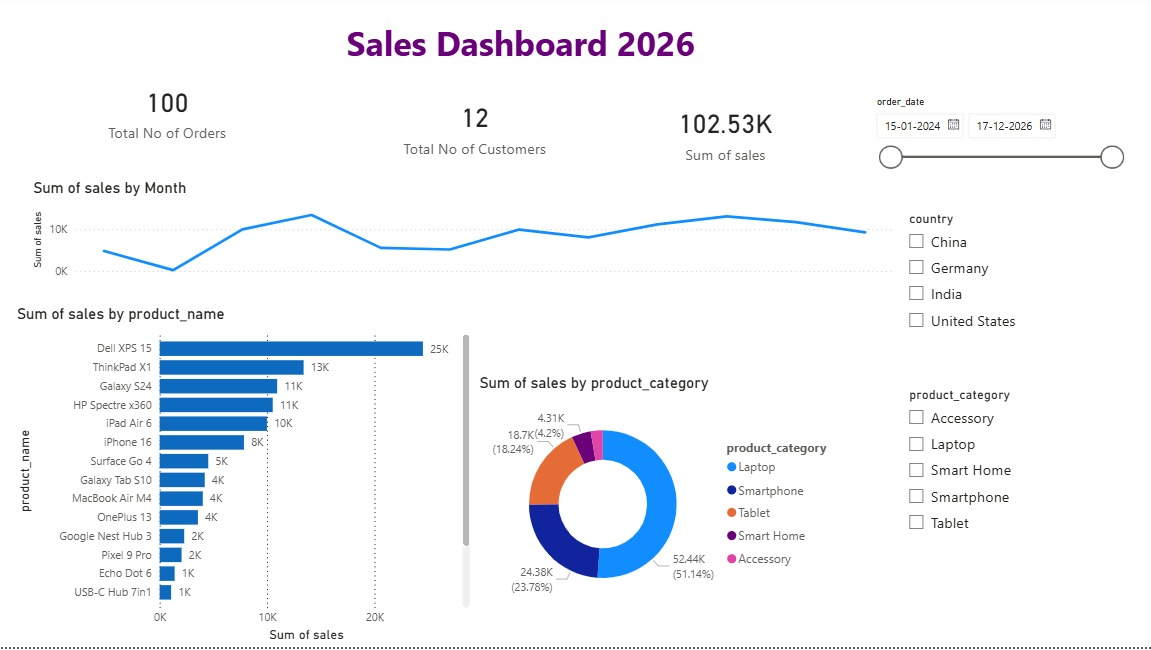

The dashboard page shown, as its layout file describes it:
{"tool":"powerbi","page":{"name":"Page 1","canvas":[1280,720],"ordinal":0},"visuals":[{"type":"barChart","fields":{"Category":["orders.product_name"],"Y":["Sum(orders.sales)"]},"box":[19.2,343.1,510.5,377.4],"z":0},{"type":"donutChart","fields":{"Y":["Sum(orders.sales)"],"Category":["orders.product_category"]},"box":[530.3,418.5,408.8,269.3],"z":1000},{"type":"card","fields":{"Values":["CountNonNull(orders.order_id)"]},"box":[19.3,74.6,342.5,106.3],"z":2000},{"type":"card","fields":{"Values":["Count(orders.customer_id)"]},"box":[378.4,87,303.8,116],"z":3000},{"type":"card","fields":{"Values":["Sum(orders.sales)"]},"box":[662.9,87,288.7,128.4],"z":4000},{"type":"lineChart","fields":{"Y":["Sum(orders.sales)"],"Category":["orders.order_date.Variation.Date Hierarchy.Month"]},"box":[37.3,203,959.9,116],"z":5000},{"type":"slicer","fields":{"Values":["customers.country"]},"box":[997.2,233.4,258.3,169.9],"z":6000},{"type":"slicer","fields":{"Values":["orders.product_category"]},"box":[997.2,428.1,258.3,185.1],"z":7000},{"type":"slicer","fields":{"Values":["orders.order_date"]},"box":[961.2,106.3,294.2,121.5],"z":8000},{"type":"textbox","box":[274.8,22.1,611.8,84.2],"z":9000}]}

Visuals, with their boxes in screenshot pixels (x1, y1, x2, y2), scaled from the page's 1280x720 canvas onto the 1151x650 screenshot:
barChart - orders.product_name x Sum(orders.sales): 17:310:476:649
donutChart - Sum(orders.sales) x orders.product_category: 477:378:844:621
card - CountNonNull(orders.order_id): 17:67:325:163
card - Count(orders.customer_id): 340:79:613:183
card - Sum(orders.sales): 596:79:856:194
lineChart - Sum(orders.sales) x orders.order_date.Variation.Date Hierarchy.Month: 34:183:897:288
slicer - customers.country: 897:211:1129:364
slicer - orders.product_category: 897:386:1129:554
slicer - orders.order_date: 864:96:1129:206
textbox: 247:20:797:96
